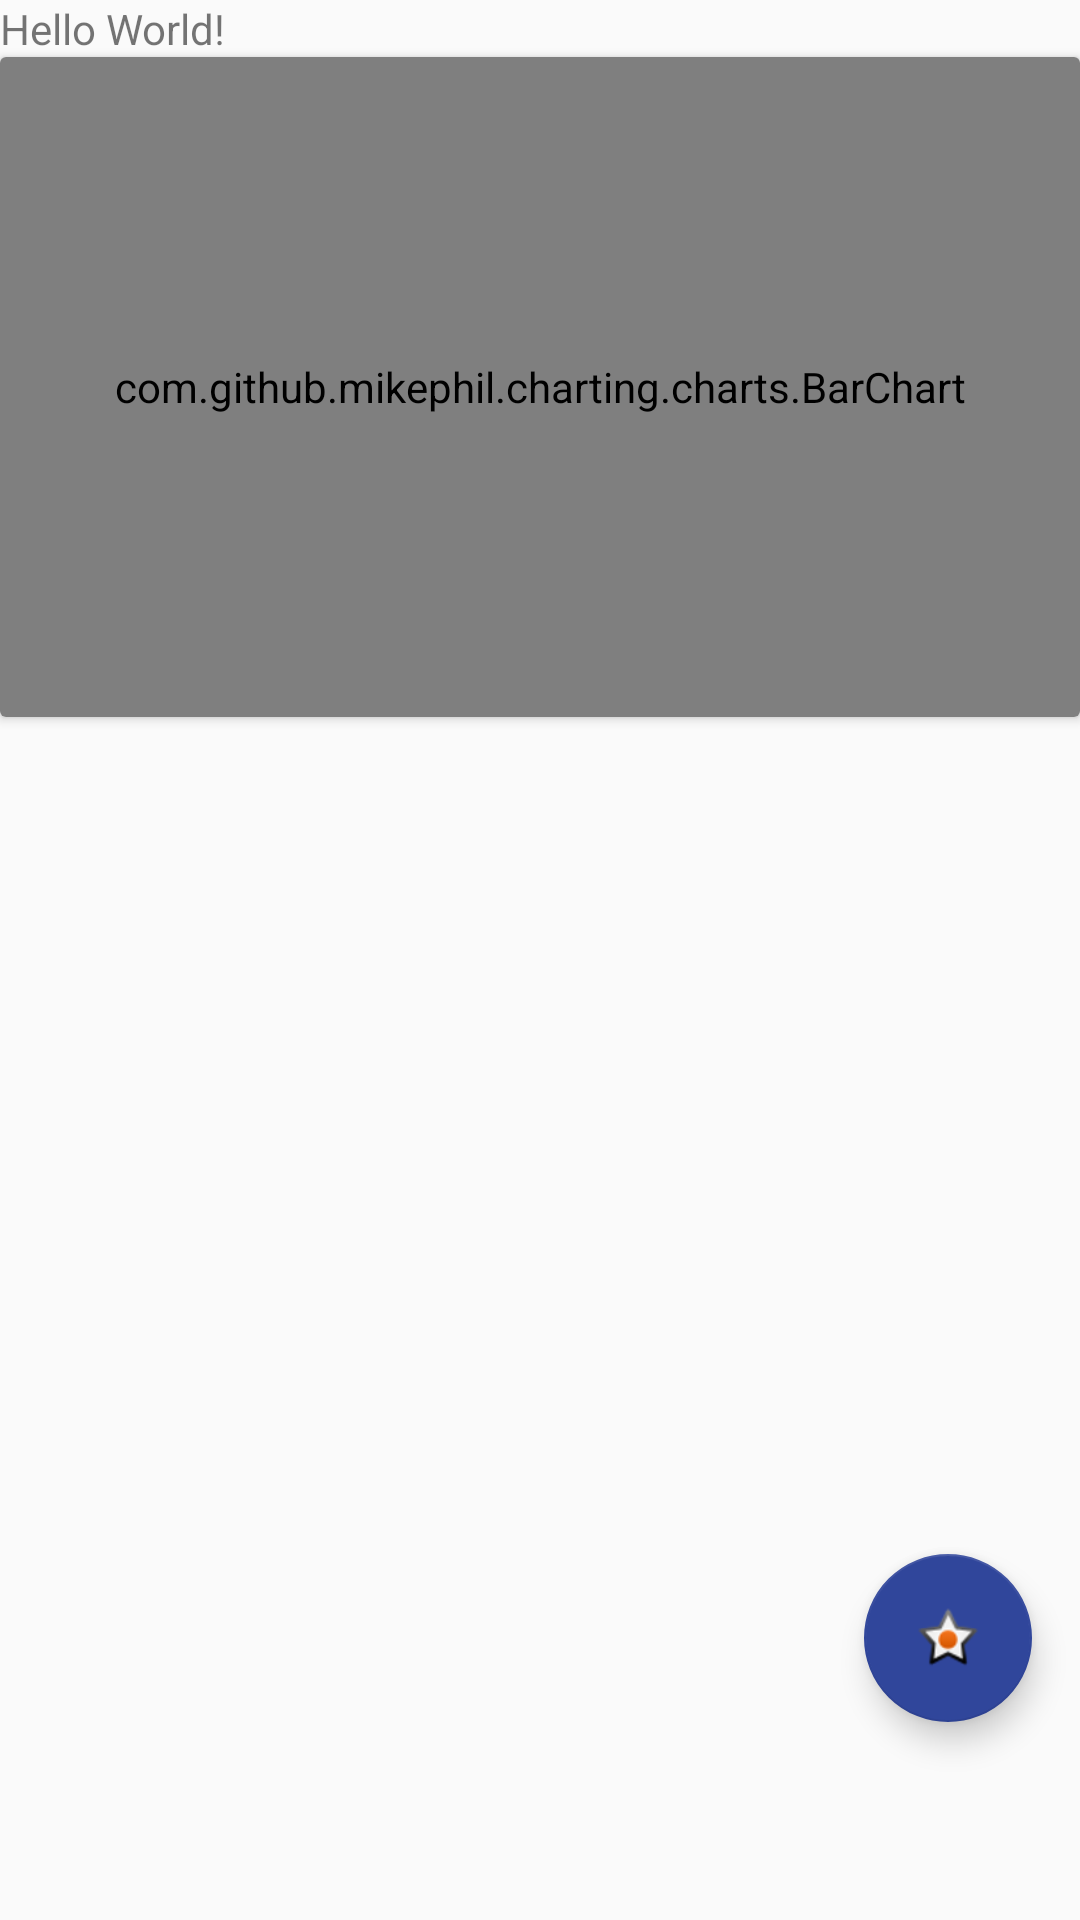

Screen size 1080px x 1920px. Icon name, then its box in pixels as [left=x1, top=y1, right=x2, bottom=y2]:
star on: [left=864, top=1554, right=1032, bottom=1722]
